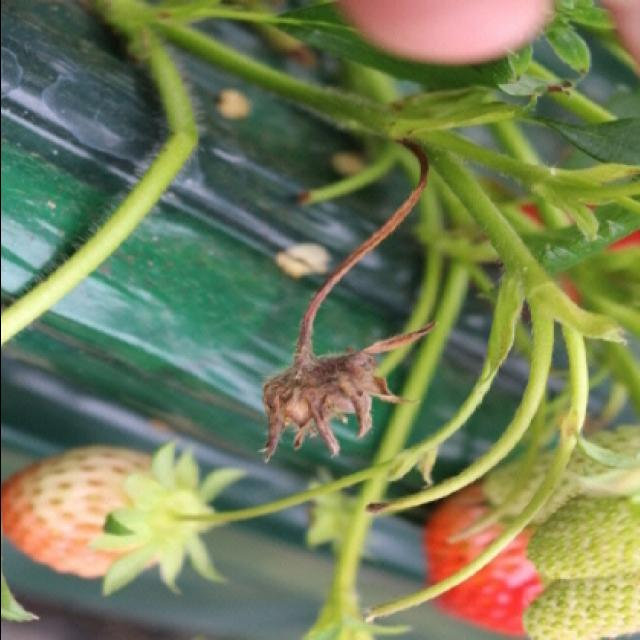Gray Mold: (259, 281, 434, 466)
